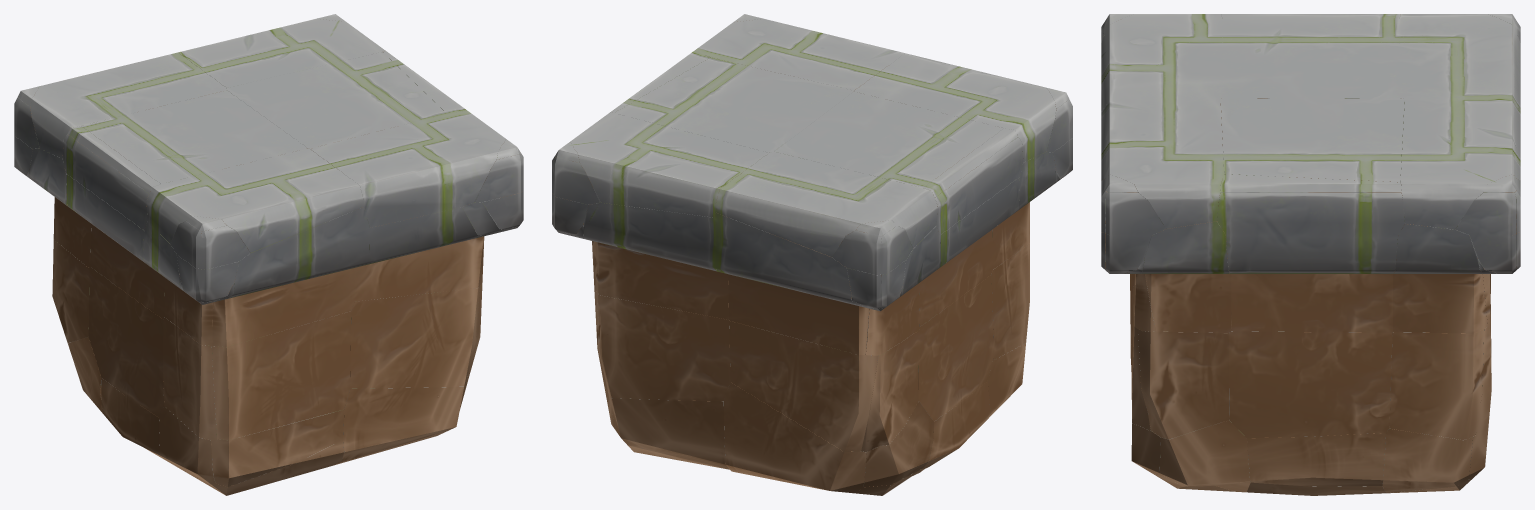
Rendered from arena block broken.fbx.
3 renders of one model, left to right at view 1: azimuth 30°, elevation 25°; view 2: azimuth 150°, elevation 25°; view 3: azimuth 270°, elevation 25°, orthographic. The views are drawn at different scales.
Parts seen in each view (by area): view 1: Cube.001_cell.005, Cube.001_cell.001, Cube.001_cell.006, Cube.001_cell.063, Cube.001_cell.015, Cube.001_cell.009, Cube.001_cell.013, Cube.001_cell.003, Cube.001_cell.071, Cube.001_cell.007, Cube.001_cell.002, Cube.001_cell.057 (+22 smaller); view 2: Cube.001_cell.003, Cube.001_cell.065, Cube.001_cell.007, Cube.001_cell.069, Cube.001_cell.015, Cube.001_cell.013, Cube.001_cell.014, Cube.001_cell.010, Cube.001_cell.001, Cube.001_cell.054, Cube.001_cell.005, Cube.001_cell.002 (+21 smaller); view 3: Cube.001_cell, Cube.001_cell.015, Cube.001_cell.013, Cube.001_cell.005, Cube.001_cell.007, Cube.001_cell.001, Cube.001_cell.003, Cube.001_cell.016, Cube.001_cell.011, Cube.001_cell.068, Cube.001_cell.008, Cube.001_cell.072 (+17 smaller).
Boxes of the visible parts, bbox=[...] form: Cube.001_cell.005: bbox=[310, 110, 505, 227]; Cube.001_cell.001: bbox=[146, 148, 363, 252]; Cube.001_cell.006: bbox=[212, 311, 351, 440]; Cube.001_cell.063: bbox=[212, 207, 369, 346]; Cube.001_cell.015: bbox=[226, 52, 446, 148]; Cube.001_cell.009: bbox=[350, 287, 479, 388]; Cube.001_cell.013: bbox=[81, 90, 307, 183]; Cube.001_cell.003: bbox=[30, 52, 226, 158]; Cube.001_cell.071: bbox=[354, 207, 484, 301]; Cube.001_cell.007: bbox=[178, 18, 385, 87]; Cube.001_cell.002: bbox=[88, 267, 164, 417]; Cube.001_cell.057: bbox=[339, 386, 463, 462]; Cube.001_cell.003: bbox=[715, 151, 937, 256]; Cube.001_cell.065: bbox=[714, 213, 869, 354]; Cube.001_cell.007: bbox=[570, 112, 768, 217]; Cube.001_cell.069: bbox=[583, 202, 728, 319]; Cube.001_cell.015: bbox=[614, 57, 854, 152]; Cube.001_cell.013: bbox=[774, 91, 1003, 187]; Cube.001_cell.014: bbox=[729, 320, 878, 451]; Cube.001_cell.010: bbox=[597, 293, 730, 401]; Cube.001_cell.001: bbox=[854, 53, 1056, 162]; Cube.001_cell.054: bbox=[724, 382, 866, 493]; Cube.001_cell.005: bbox=[693, 19, 904, 90]; Cube.001_cell.002: bbox=[918, 275, 993, 421]; Cube.001_cell: bbox=[1229, 331, 1392, 438]; Cube.001_cell.015: bbox=[1220, 98, 1404, 182]; Cube.001_cell.013: bbox=[1222, 19, 1399, 98]; Cube.001_cell.005: bbox=[1101, 99, 1224, 228]; Cube.001_cell.007: bbox=[1400, 99, 1520, 229]; Cube.001_cell.001: bbox=[1101, 14, 1222, 111]; Cube.001_cell.003: bbox=[1399, 14, 1520, 111]; Cube.001_cell.016: bbox=[1231, 274, 1392, 332]; Cube.001_cell.011: bbox=[1389, 329, 1483, 439]; Cube.001_cell.068: bbox=[1393, 224, 1487, 333]; Cube.001_cell.008: bbox=[1138, 329, 1229, 439]; Cube.001_cell.072: bbox=[1141, 221, 1231, 333].
Size of the model in its own units: 729 by 644 by 729.
